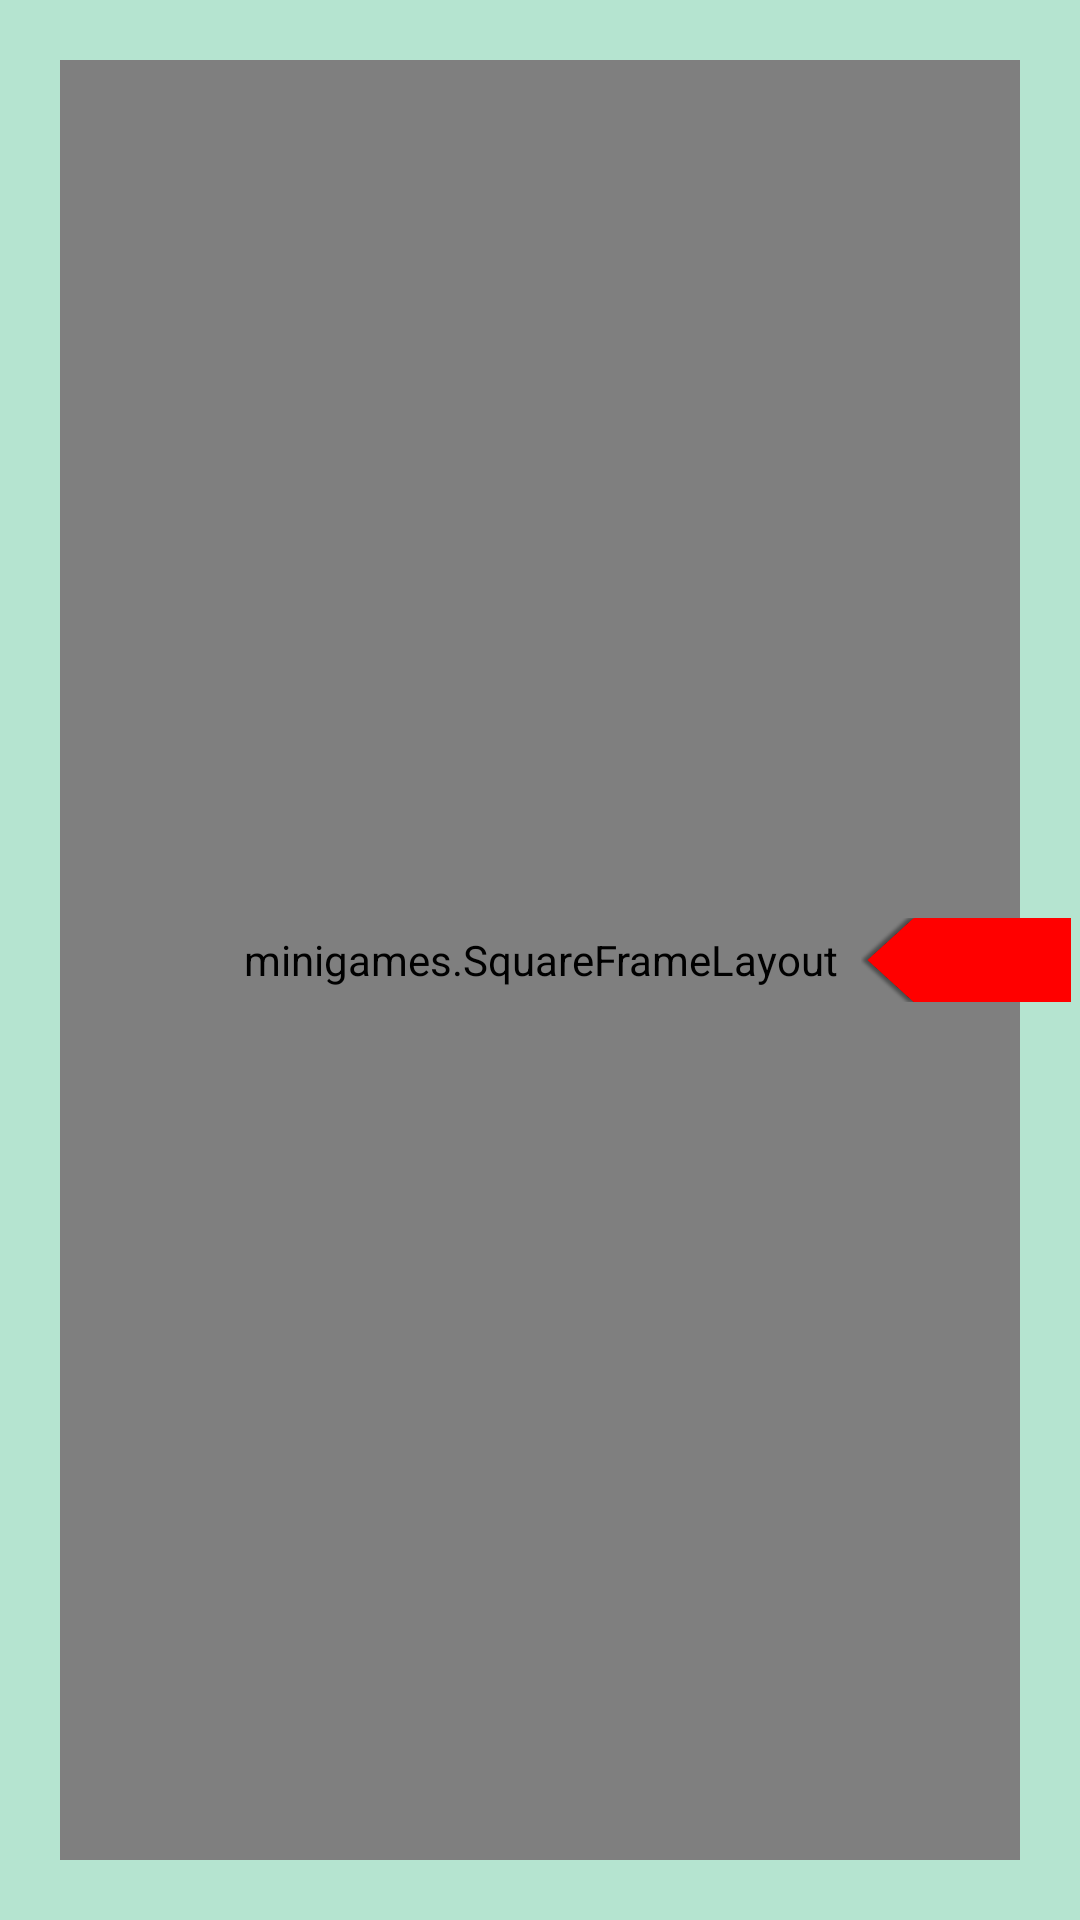

Named icons in this screenshot (1080px x 1920px) and their centers, point (x, y):
arrow: point (967, 960)
